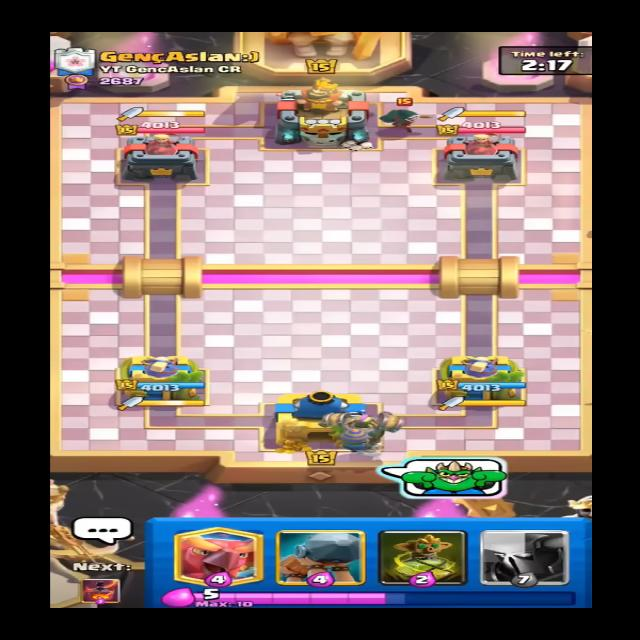bandit: (372, 96, 441, 134)
